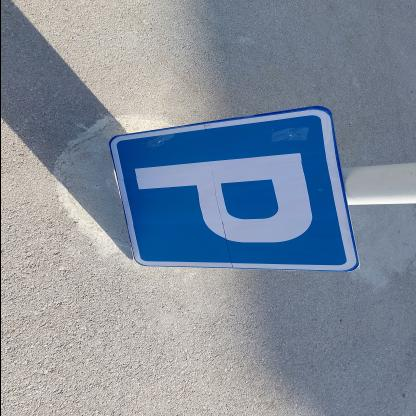Parking-Sign: (107, 105, 358, 274)
